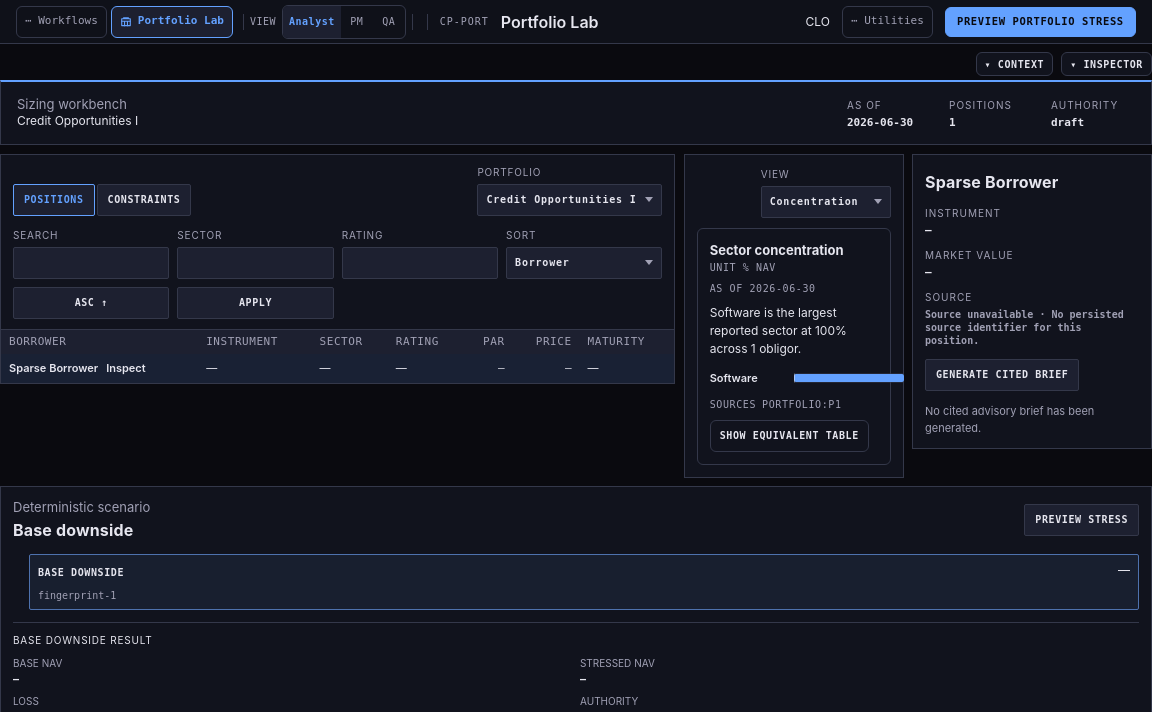
Test: Portfolio Lab workbench › renders sparse position, constraint, and stress records with explicit unavailable values
Expected: the text "Source unavailable · No persisted source identifier for this position." is shown, [925, 308, 1139, 347]
Click the button "Base downside": (81,573) [38, 561, 1106, 585]
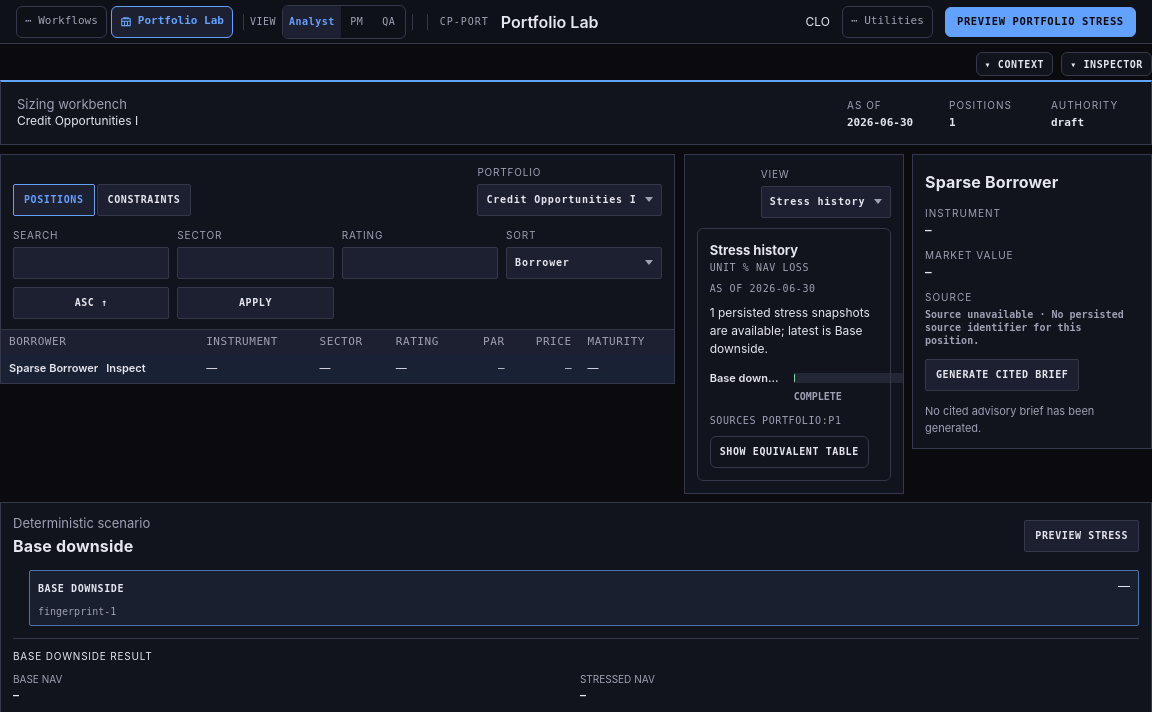
Click the tab "Constraints": (144,200) [97, 184, 191, 216]
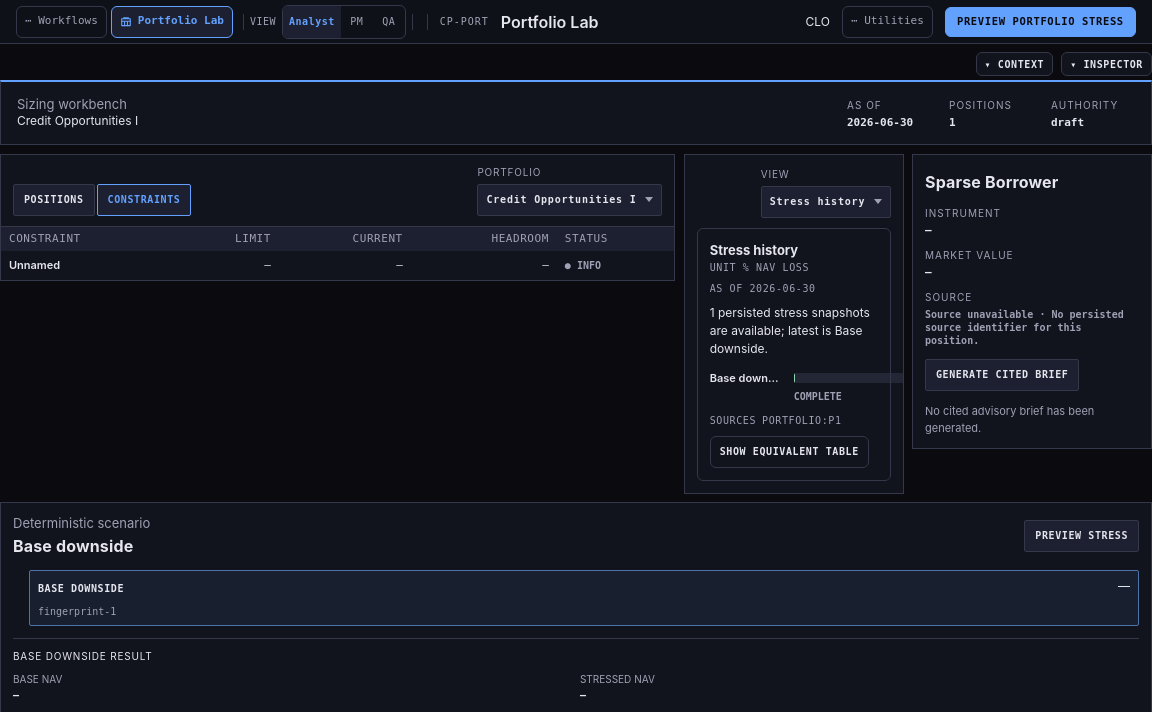
Expected: the table named "Portfolio constraints" is shown, [1, 226, 674, 280]
Expected: the text "Unnamed" is shown, [9, 258, 60, 272]
